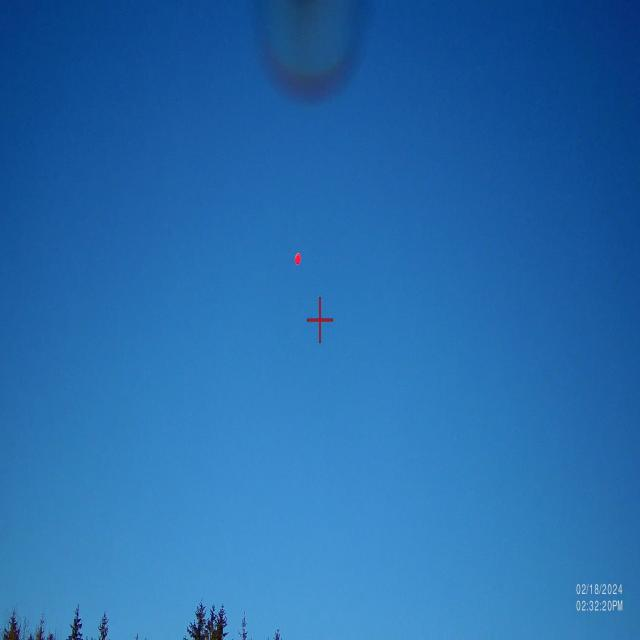entire: (288, 248, 305, 274)
